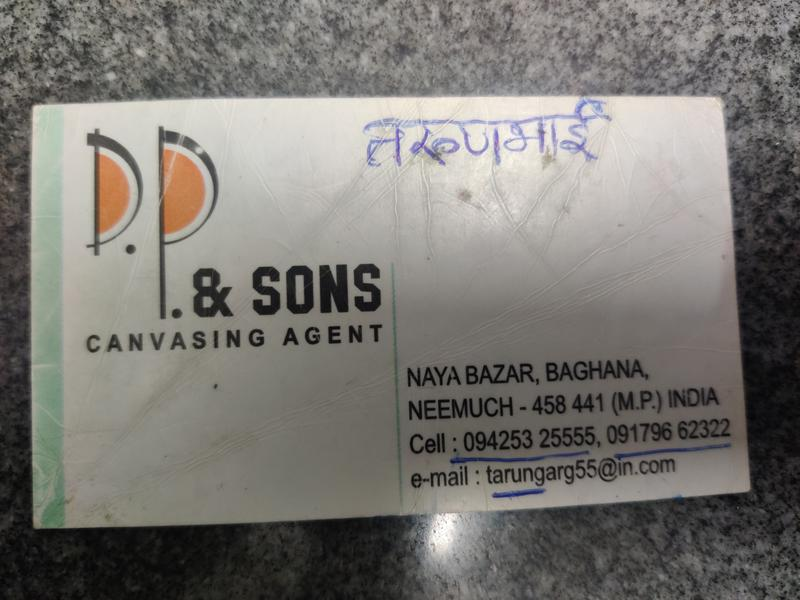card: (25, 84, 752, 535)
